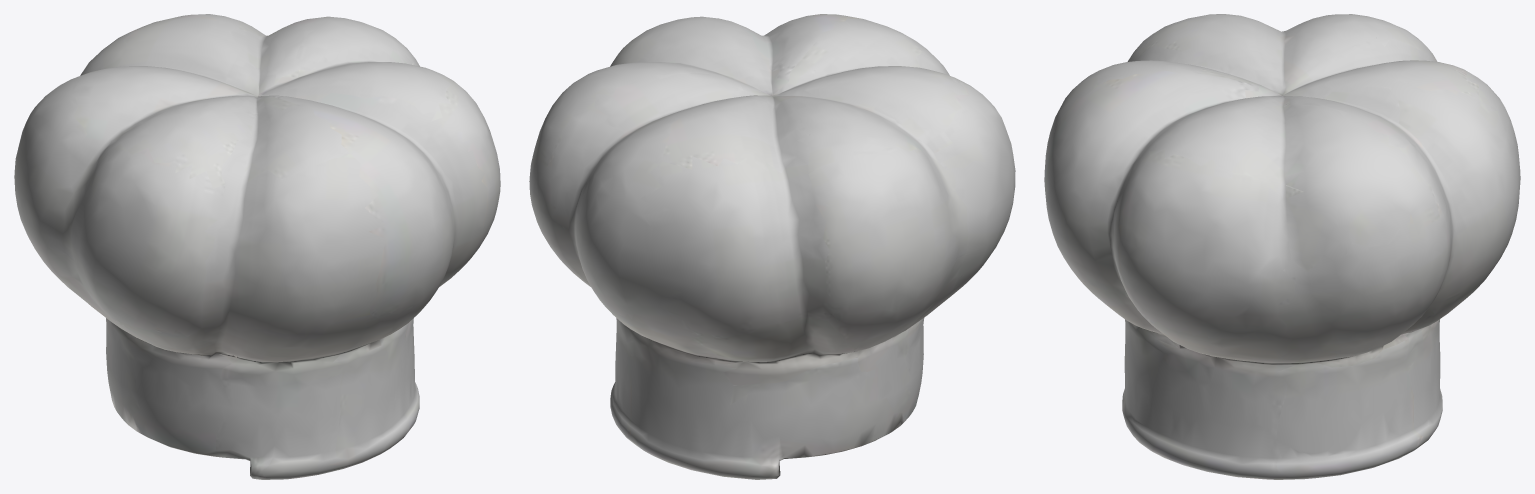
File: hat_chef.glb
3 renders of one model, left to right at view 1: azimuth 30°, elevation 25°; view 2: azimuth 150°, elevation 25°; view 3: azimuth 270°, elevation 25°, orthographic.
Parts seen in each view (by area): view 1: tripo_node_42b773dd-fe85-4de1-b5db-a4c7ba30952d; view 2: tripo_node_42b773dd-fe85-4de1-b5db-a4c7ba30952d; view 3: tripo_node_42b773dd-fe85-4de1-b5db-a4c7ba30952d.
Boxes of the visible parts, x1,y1,x2,y2 form: tripo_node_42b773dd-fe85-4de1-b5db-a4c7ba30952d: (14, 14, 500, 479); tripo_node_42b773dd-fe85-4de1-b5db-a4c7ba30952d: (529, 14, 1015, 479); tripo_node_42b773dd-fe85-4de1-b5db-a4c7ba30952d: (1044, 14, 1520, 479).
Size of the model in its own units: 0.9601 by 0.8059 by 1.
Materials: 1 (1 with a texture image).
